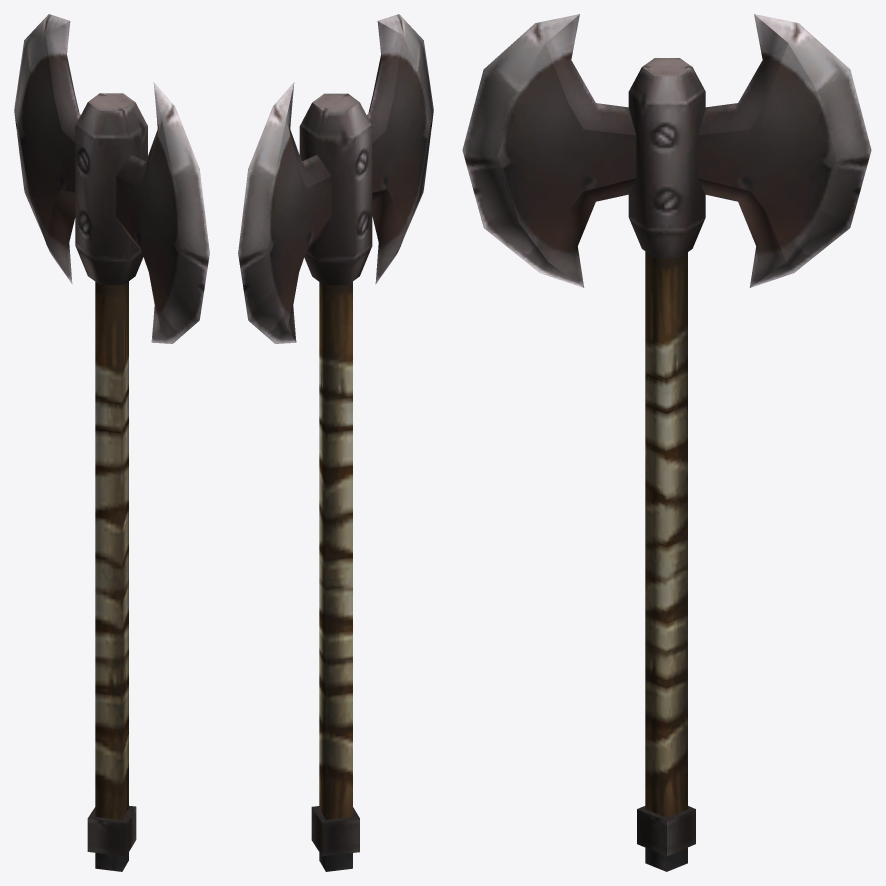
Rendered from greataxe14_8d9a3c5d.glb.
3 renders of one model, left to right at view 1: azimuth 30°, elevation 25°; view 2: azimuth 150°, elevation 25°; view 3: azimuth 270°, elevation 25°, orthographic. The views are drawn at different scales.
Bounding box in the file's own units: 0.1421 × 2.04 × 0.8904.
Materials: 1 (1 with a texture image).
